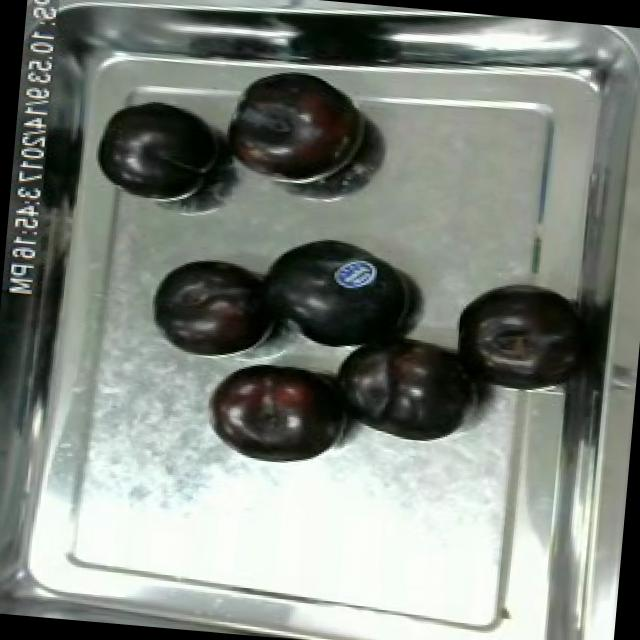Fruit: (246, 222, 427, 360), (215, 60, 377, 192), (324, 323, 486, 452), (198, 352, 356, 471), (87, 90, 232, 207), (143, 245, 286, 362), (446, 276, 574, 390)
